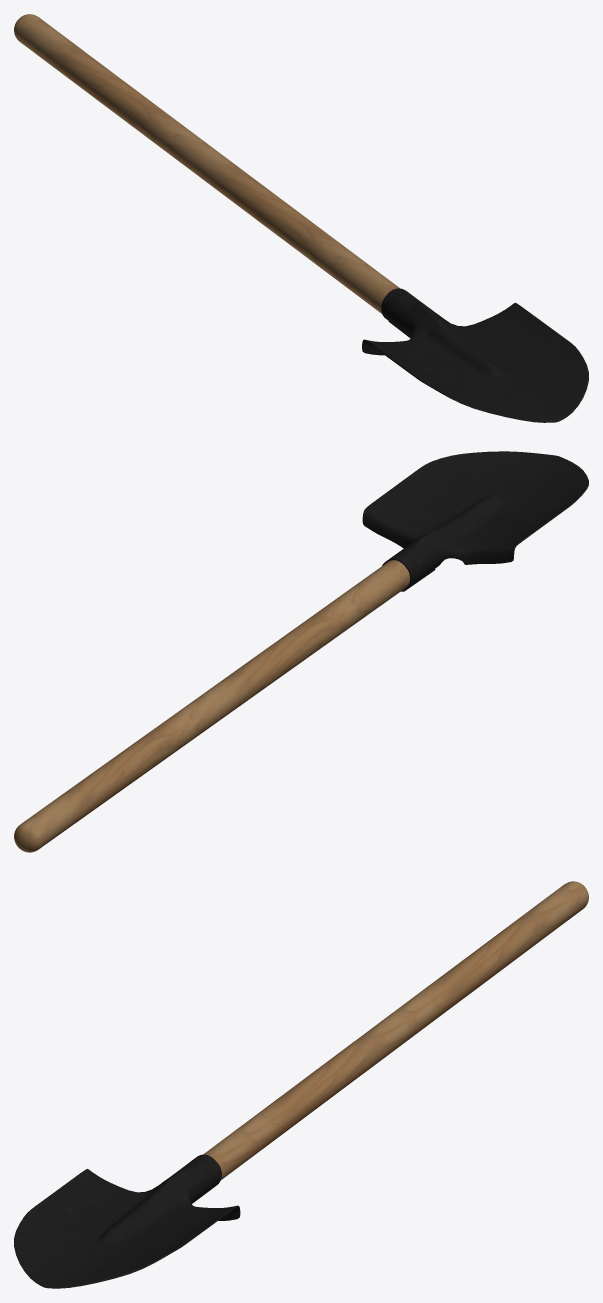
Rendered from gardening-shovel-05.fbx.
3 renders of one model, top to bottom at view 1: azimuth 30°, elevation 25°; view 2: azimuth 150°, elevation 25°; view 3: azimuth 330°, elevation 25°, orthographic.
Visible parts, largest first — view 1: 18, 3; view 2: 18, 3; view 3: 18, 3.
Boxes of the visible parts, x1=… form: 18: x1=362, y1=288, x2=588, y2=422; 3: x1=14, y1=14, x2=399, y2=313; 18: x1=362, y1=451, x2=588, y2=591; 3: x1=14, y1=560, x2=410, y2=852; 18: x1=14, y1=1154, x2=240, y2=1288; 3: x1=203, y1=881, x2=588, y2=1180.
Bounding box in the file's own units: 2094 × 487 × 12804.
Materials: 2 (2 with a texture image).
